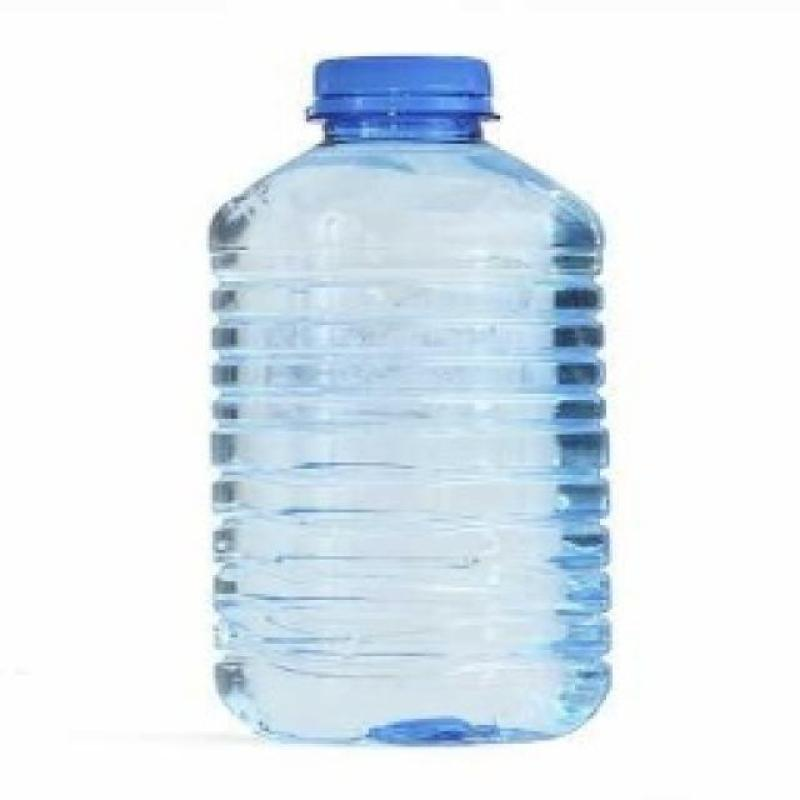botella: (201, 54, 614, 748)
